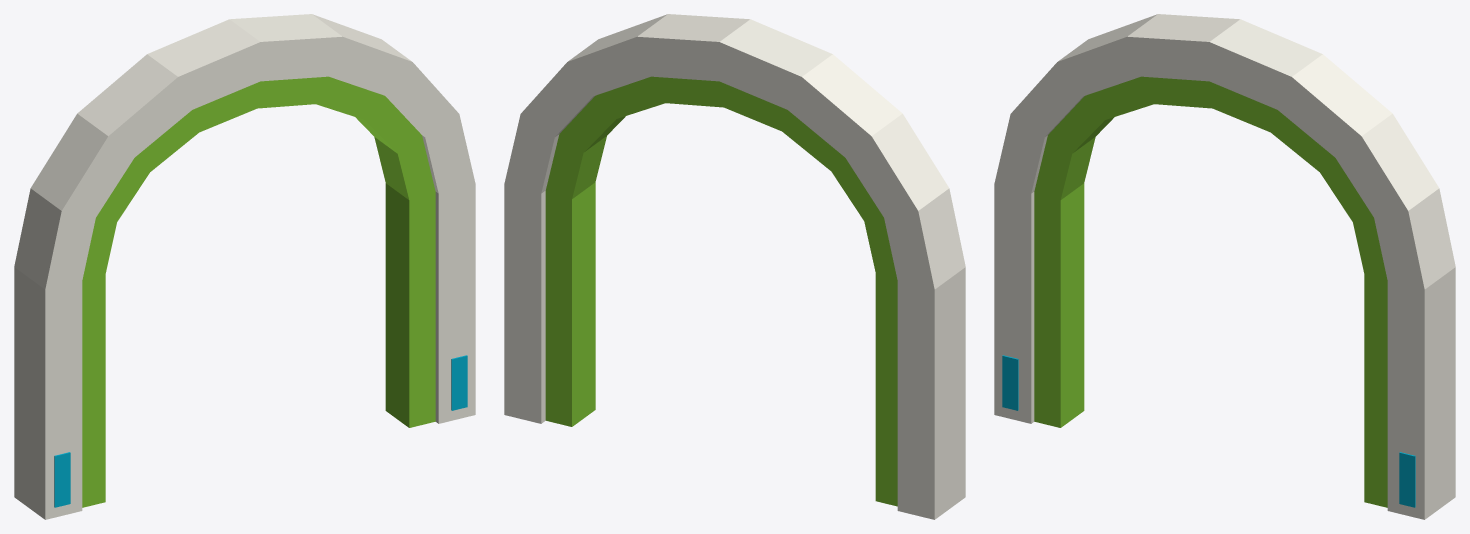
File: lime_arch.glb
The picture shows the model from 3 angles, left to right: view 1: azimuth 30°, elevation 25°; view 2: azimuth 150°, elevation 25°; view 3: azimuth 330°, elevation 25°; orthographic projection.
Parts seen in each view (by area): view 1: Aero_lime_arch; view 2: Aero_lime_arch; view 3: Aero_lime_arch.
Part boxes in pixels (box(x1,y1,x2,y2)): Aero_lime_arch: box(14, 14, 475, 519); Aero_lime_arch: box(504, 14, 965, 519); Aero_lime_arch: box(994, 14, 1455, 519).
Bounding box in the file's own units: 3.6 × 3.4 × 0.463.
3 materials, 3 textured.
